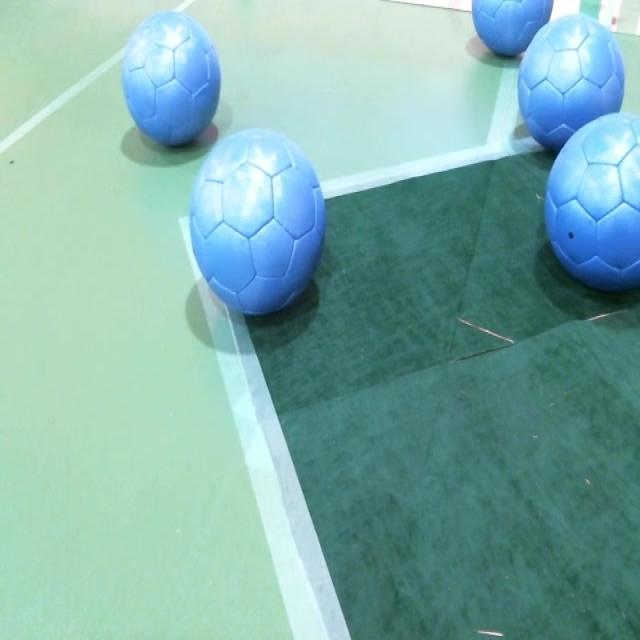blue_ball: (190, 134, 325, 318), (543, 112, 640, 298), (518, 16, 626, 161), (120, 11, 220, 149), (472, 0, 556, 63)
